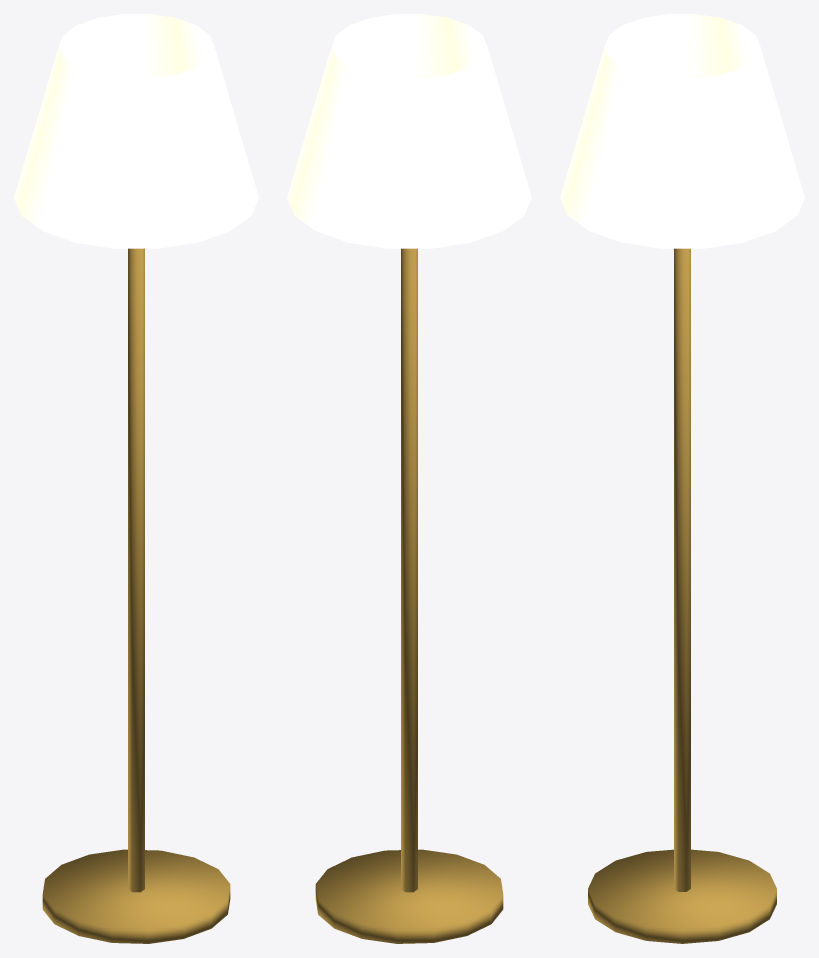
The model's file is floor_lamp.gltf.
3 views of the same model, side by side, from view 1: azimuth 30°, elevation 25°; view 2: azimuth 150°, elevation 25°; view 3: azimuth 270°, elevation 25° (orthographic).
Visible parts, largest first — view 1: floor_lamp_mesh; view 2: floor_lamp_mesh; view 3: floor_lamp_mesh.
Part boxes in pixels (left/top/right/bottom): floor_lamp_mesh: left=14, top=14, right=258, bottom=943; floor_lamp_mesh: left=287, top=14, right=531, bottom=943; floor_lamp_mesh: left=560, top=14, right=804, bottom=943.
Size of the model in its own units: 0.4333 by 1.7 by 0.44.
